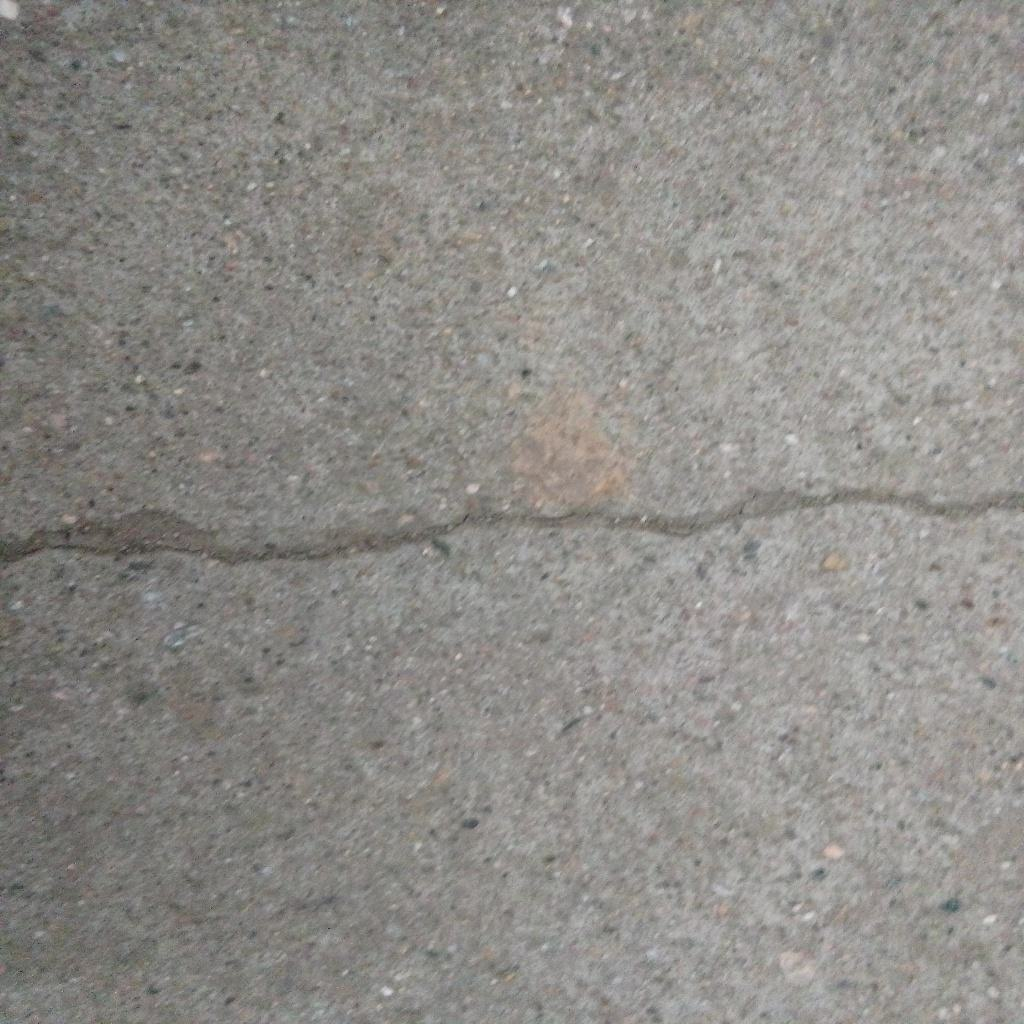Crack: (1, 485, 1024, 561)
